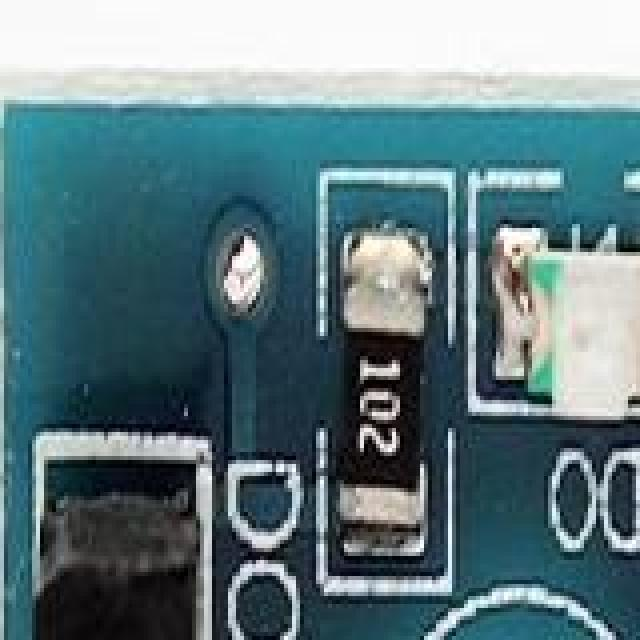LED: (508, 244, 640, 420)
connector: (0, 528, 184, 640)
resistor: (336, 256, 426, 528)
